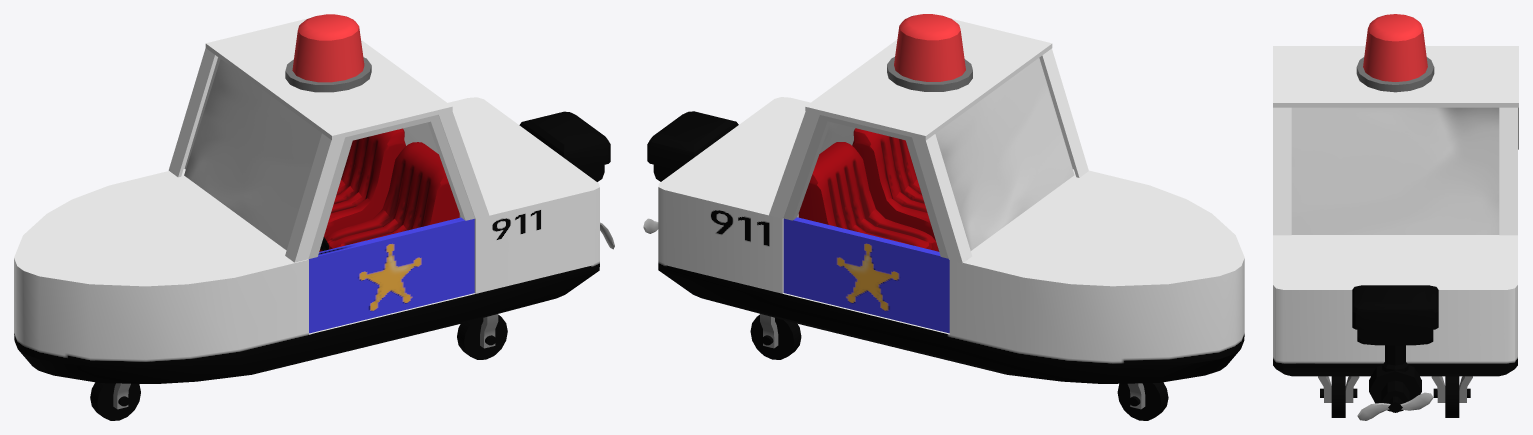
The model's file is policeboat.obj.
The picture shows the model from 3 angles, left to right: view 1: azimuth 30°, elevation 25°; view 2: azimuth 150°, elevation 25°; view 3: azimuth 270°, elevation 25°; orthographic projection. The views are drawn at different scales.
Visible parts, largest first — view 1: Cube.020; view 2: Cube.020; view 3: Cube.020.
Boxes of the visible parts, x1,y1,x2,y2 form: Cube.020: (14, 14, 614, 420); Cube.020: (643, 14, 1244, 420); Cube.020: (1273, 14, 1518, 420).
Bounding box in the file's own units: 22.01 × 12.52 × 8.37.
2 materials, 2 textured.
